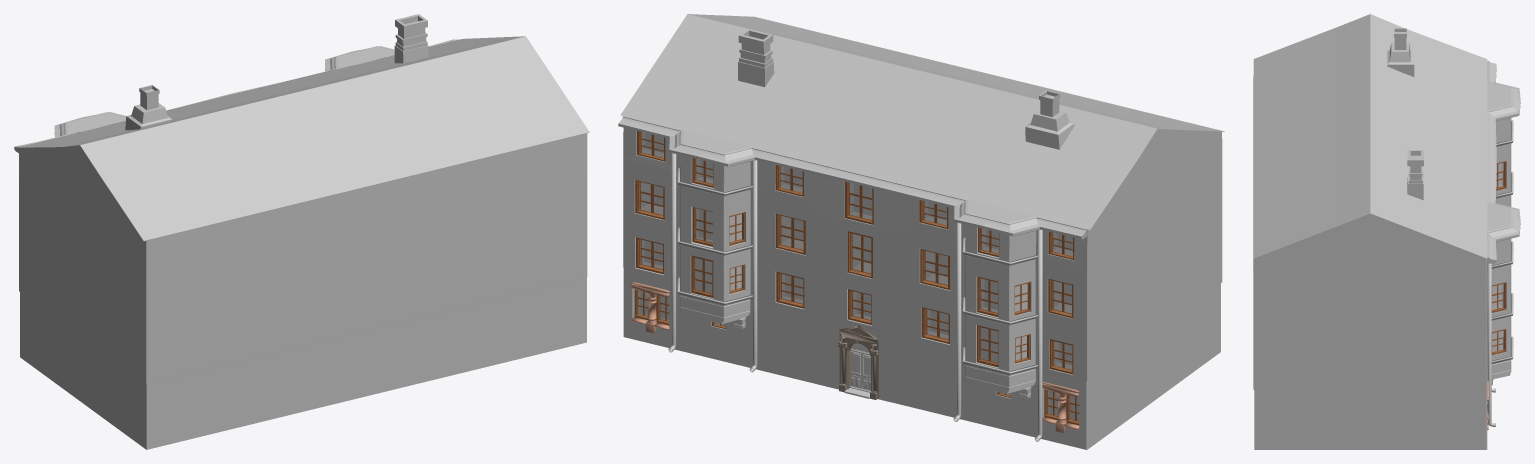
The model's file is Apartment4_Low.fbx.
3 renders of one model, left to right at view 1: azimuth 30°, elevation 25°; view 2: azimuth 150°, elevation 25°; view 3: azimuth 270°, elevation 25°, orthographic. The views are drawn at different scales.
Visible parts, largest first — view 1: Apartment4, FullHouse.147, Apartment4.008, Apartment4.005, Apartment4.007, Apartment4.004, Apartment4.009, Apartment4.006, Apartment4.003, 5th_L_C.013; view 2: Apartment4, FullHouse.147, Apartment4.008, Apartment4.007, Apartment4.005, Cylinder, 5th_L_C.013, Apartment4.004, Apartment4.009, Apartment4.002, Apartment4.003, Apartment4.006 (+22 smaller); view 3: FullHouse.147, Apartment4, Apartment4.003, 5th_L_C.013, Cylinder, FullHouse.282, FullHouse.287, Apartment4.002, FullHouse.254.
Part boxes in pixels (x1,y1,x2,y2): Apartment4: (19,55,587,384); FullHouse.147: (14,36,589,241); Apartment4.008: (20,292,195,449); Apartment4.005: (393,306,465,389); Apartment4.007: (261,339,332,421); Apartment4.004: (465,290,532,371); Apartment4.009: (195,356,261,437); Apartment4.006: (333,324,393,404); Apartment4.003: (533,277,586,355); 5th_L_C.013: (125,14,428,130); Apartment4: (623,115,1222,380); FullHouse.147: (618,14,1224,239); Apartment4.008: (1036,283,1220,449); Apartment4.007: (890,333,966,420); Apartment4.005: (750,299,825,386); Cylinder: (668,153,1042,441); 5th_L_C.013: (738,28,1074,149); Apartment4.004: (680,299,750,367); Apartment4.009: (966,369,1035,437); Apartment4.002: (680,296,1035,398); Apartment4.003: (623,268,680,350); Apartment4.006: (826,317,889,401); FullHouse.147: (1253,14,1520,263); Apartment4: (1253,77,1513,389); Apartment4.003: (1254,390,1487,449); 5th_L_C.013: (1387,28,1423,200); Cylinder: (1487,263,1495,426); FullHouse.282: (1491,282,1506,312); FullHouse.287: (1491,329,1506,354); Apartment4.002: (1487,361,1511,385); FullHouse.254: (1496,161,1506,190).
Size of the model in its own units: 28.35 by 17.16 by 16.06.
